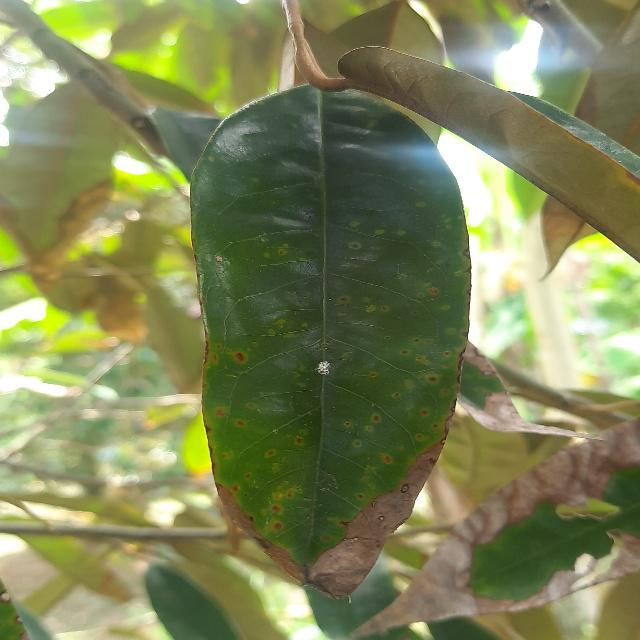Leaf Spot: (183, 73, 479, 612)
